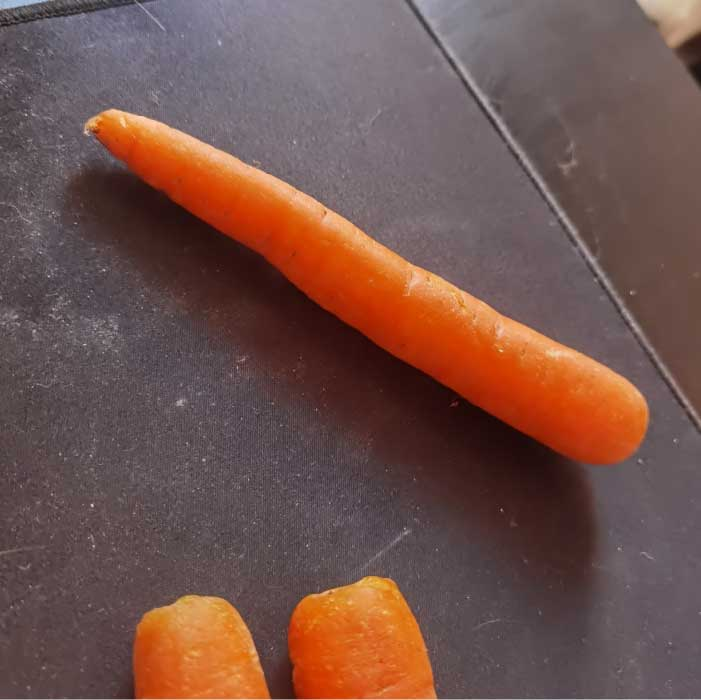Karotte: (84, 107, 650, 467)
